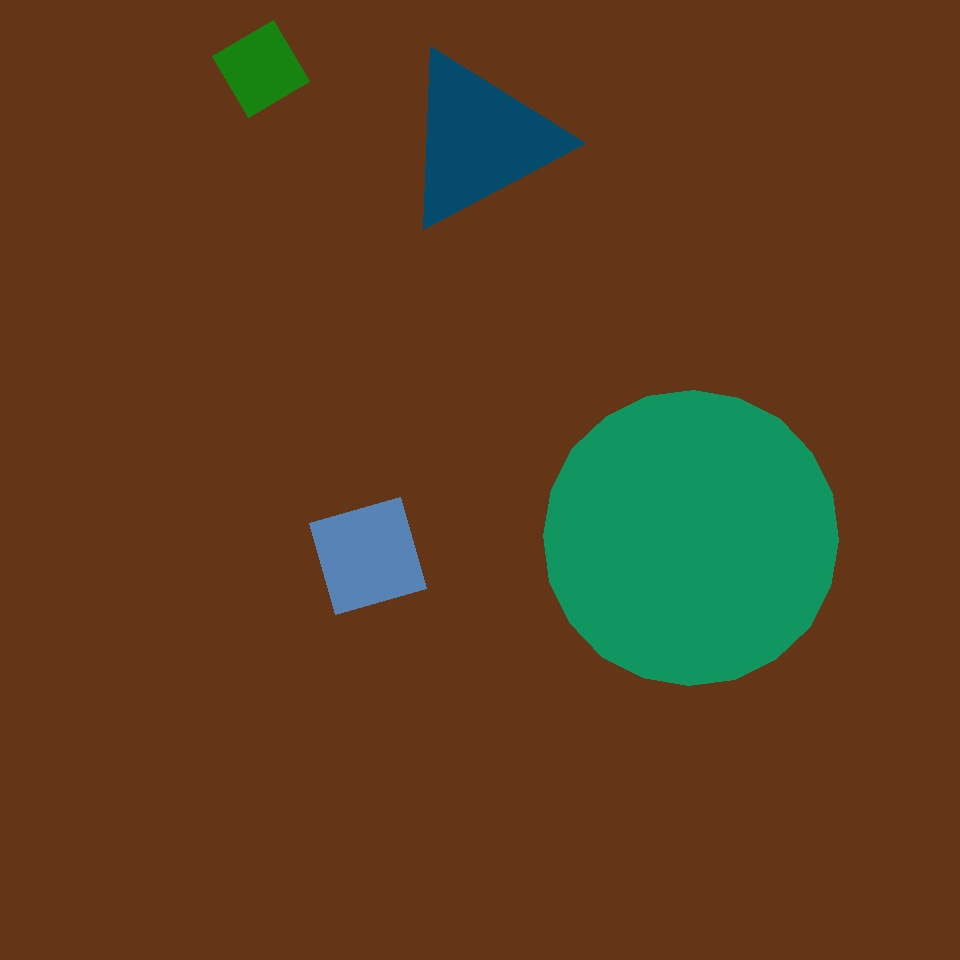circle: (123, 627, 419, 890), (177, 129, 434, 417), (399, 49, 561, 232), (659, 413, 812, 547)
square: (87, 203, 462, 577), (310, 498, 426, 614), (212, 20, 310, 118)
triangle: (116, 187, 479, 550), (544, 390, 839, 686), (625, 16, 861, 252)
